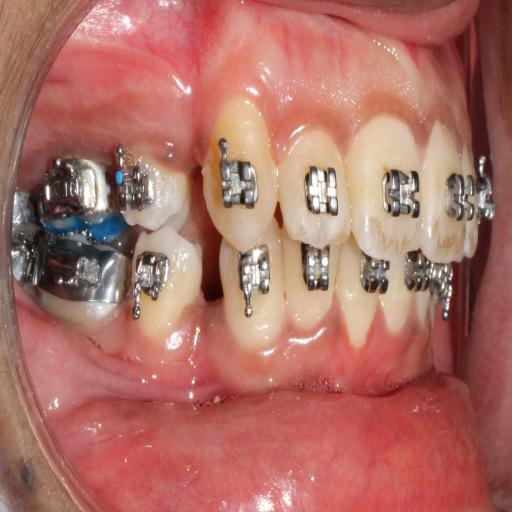correct_brace: (107, 136, 193, 236), (210, 141, 262, 215), (377, 156, 422, 223), (296, 160, 342, 222), (442, 164, 477, 220)
incorrect_brace: (280, 133, 351, 250), (117, 157, 154, 211)
